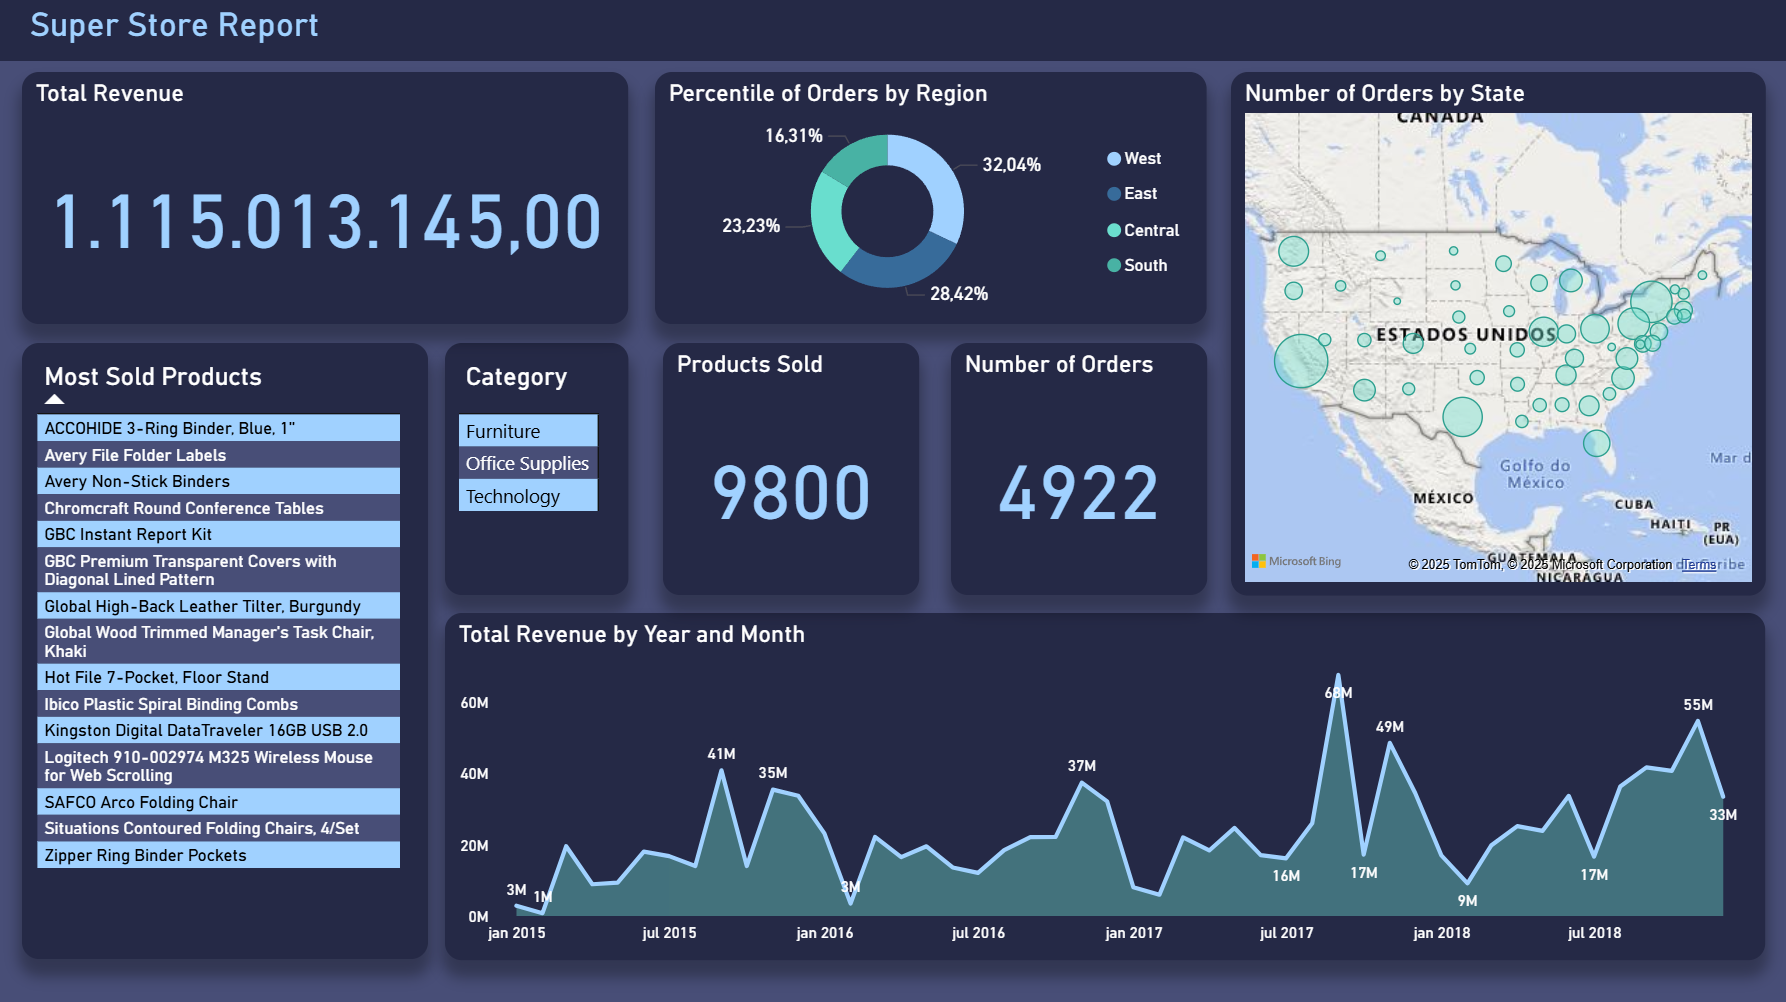

The page's visual inventory and layout, read from the dashboard file:
{"tool":"powerbi","page":{"name":"Report","canvas":[1280,720],"ordinal":0},"visuals":[{"type":"pivotTable","title":"Total Revenue by Category","fields":{"Rows":["golden-super_store_sales.Category"]},"box":[320,246.7,130.8,180],"z":0},{"type":"card","title":"Total Revenue","fields":{"Values":["Sum(golden-super_store_sales.Sales)"]},"box":[17.5,52.5,433.3,180],"z":1000},{"type":"tableEx","fields":{"Values":["top_10_sold_products.Product Name"]},"box":[17.5,246.7,290,440],"z":2000},{"type":"textbox","title":"Super Store Report","box":[0,0,1280,45],"z":3000},{"type":"lineChart","title":"Total Revenue by Year and Month","fields":{"Category":["golden-super_store_sales.Order Date.Variation.Date Hierarchy.Year","golden-super_store_sales.Order Date.Variation.Date Hierarchy.Month"],"Y":["Sum(golden-super_store_sales.Sales)"]},"box":[320,439.2,943.3,247.5],"z":4000},{"type":"donutChart","title":"Percentile of Orders by Region","fields":{"Y":["CountNonNull(golden-super_store_sales.Order ID)"],"Category":["golden-super_store_sales.Region"]},"box":[470,52.5,394.2,180],"z":5000},{"type":"map","title":"Number of Orders by State","fields":{"Size":["CountNonNull(golden-super_store_sales.Order ID)"],"Category":["golden-super_store_sales.State"]},"box":[881.7,52.5,381.7,374.2],"z":6000},{"type":"card","title":"Products Sold","fields":{"Values":["CountNonNull(golden-super_store_sales.Product ID)"]},"box":[475.8,246.7,182.5,180],"z":7000},{"type":"card","title":"Number of Orders","fields":{"Values":["Count(golden-super_store_sales.Order ID)"]},"box":[681.7,246.7,182.5,180],"z":8000}]}

Visuals, with their boxes in screenshot pixels (x1, y1, x2, y2), scaled from the page's 1280x720 canvas onto the 1786x1002 screenshot:
"Total Revenue by Category" pivotTable: [left=446, top=343, right=629, bottom=594]
"Total Revenue" card: [left=24, top=73, right=629, bottom=324]
tableEx - top_10_sold_products.Product Name: [left=24, top=343, right=429, bottom=956]
"Super Store Report" textbox: [left=0, top=0, right=1785, bottom=63]
"Total Revenue by Year and Month" lineChart: [left=446, top=611, right=1763, bottom=956]
"Percentile of Orders by Region" donutChart: [left=656, top=73, right=1206, bottom=324]
"Number of Orders by State" map: [left=1230, top=73, right=1763, bottom=594]
"Products Sold" card: [left=664, top=343, right=919, bottom=594]
"Number of Orders" card: [left=951, top=343, right=1206, bottom=594]
